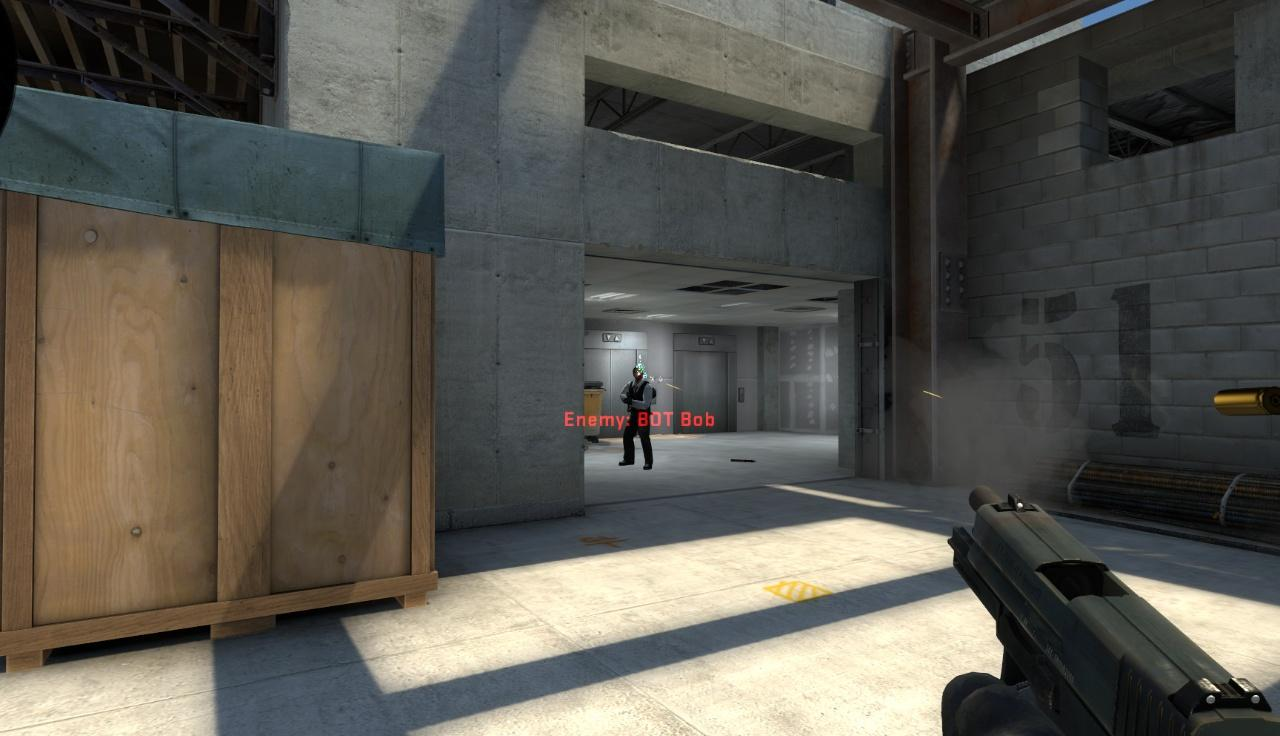pistol: (944, 480, 1279, 735)
tt: (621, 365, 652, 469)
